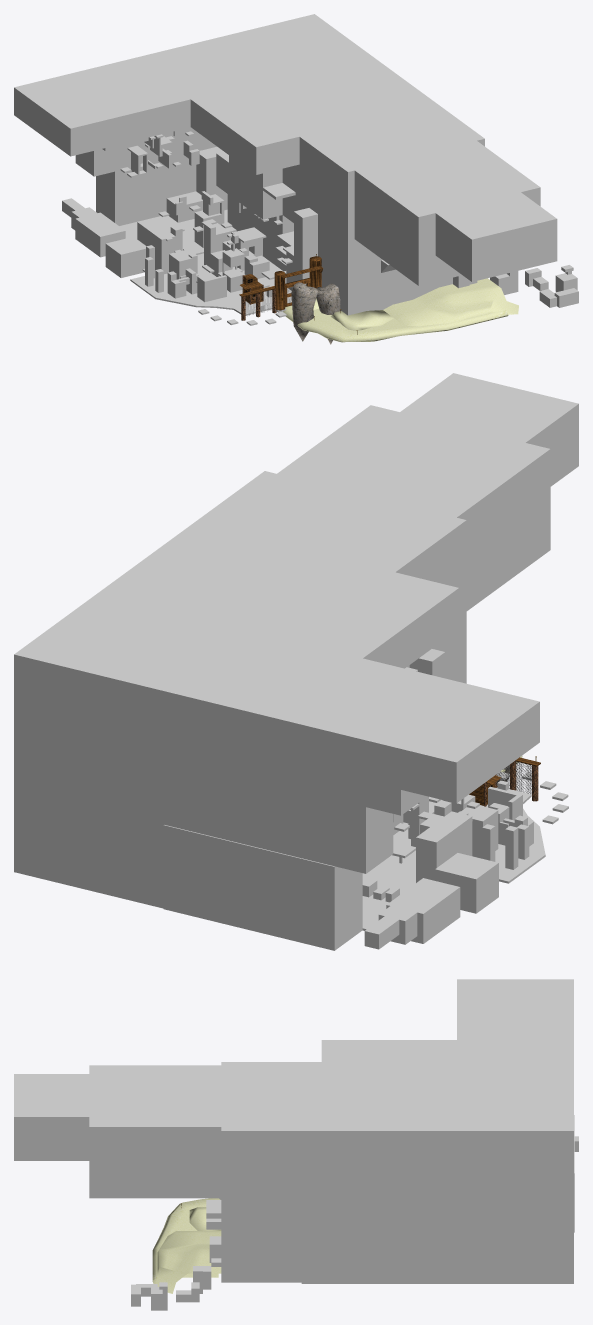
File: Island.glb
The picture shows the model from 3 angles, top to bottom: view 1: azimuth 30°, elevation 25°; view 2: azimuth 150°, elevation 25°; view 3: azimuth 270°, elevation 25°; orthographic projection. The views are drawn at different scales.
Parts seen in each view (by area): view 1: Cube-col_151, Cube-col_153, Cube-col_049, Cube-col_152, Cube-col_154, Cube-col_159, Cube-col_091, sand mound 3-col, sand-col, Cube-col_138, Cube-col_156, Cube-col_098 (+18 smaller); view 2: Cube-col_151, Cube-col_153, Cube-col_152, Cube-col_049, Cube-col_138, Cube-col_139, Cube-col_091, Cube-col_150, Cube-col_148, Cube-col_159, Cube-col_154, Cube-col_079 (+10 smaller); view 3: Cube-col_151, Cube-col_049, Cube-col_153, Cube-col_139, Cube-col_152, Cube-col_154, Cube-col_145, Cube-col_142, Cube-col_144, Cube-col_159, sand mound 3-col, Cube-col_148 (+5 smaller).
Part boxes in pixels (x1,y1,x2,y2): Cube-col_151: (14,14,370,156); Cube-col_153: (354,140,540,285); Cube-col_049: (309,110,484,315); Cube-col_152: (234,55,445,171); Cube-col_154: (435,192,557,281); Cube-col_159: (190,89,299,174); Cube-col_091: (96,155,196,225); sand mound 3-col: (383,278,518,326); sand-col: (283,305,508,342); Cube-col_138: (75,127,216,176); Cube-col_156: (216,151,282,219); Cube-col_098: (227,194,293,270); Cube-col_151: (14,593,539,803); Cube-col_153: (277,405,550,610); Cube-col_152: (97,513,409,642); Cube-col_049: (208,471,466,683); Cube-col_138: (164,758,393,873); Cube-col_139: (14,788,163,908); Cube-col_091: (215,837,362,950); Cube-col_150: (14,695,426,815); Cube-col_148: (14,721,164,824); Cube-col_159: (299,572,458,668); Cube-col_154: (400,373,578,486); Cube-col_079: (163,825,215,921); Cube-col_151: (457,979,573,1159); Cube-col_049: (221,1062,301,1282); Cube-col_153: (89,1065,221,1198); Cube-col_139: (301,1225,573,1283); Cube-col_152: (301,1062,456,1159); Cube-col_154: (14,1074,89,1160); Cube-col_145: (356,1160,480,1191); Cube-col_142: (356,1191,470,1224); Cube-col_144: (301,1160,356,1224); Cube-col_159: (321,1040,456,1061); sand mound 3-col: (153,1231,221,1293); Cube-col_148: (535,1178,573,1224).
Size of what is drawn, in the model's own units: 257 by 123 by 338.
7 materials, 5 textured.
